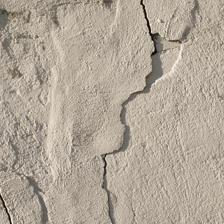Crack: (101, 86, 140, 224), (142, 30, 190, 95), (139, 2, 158, 42)
